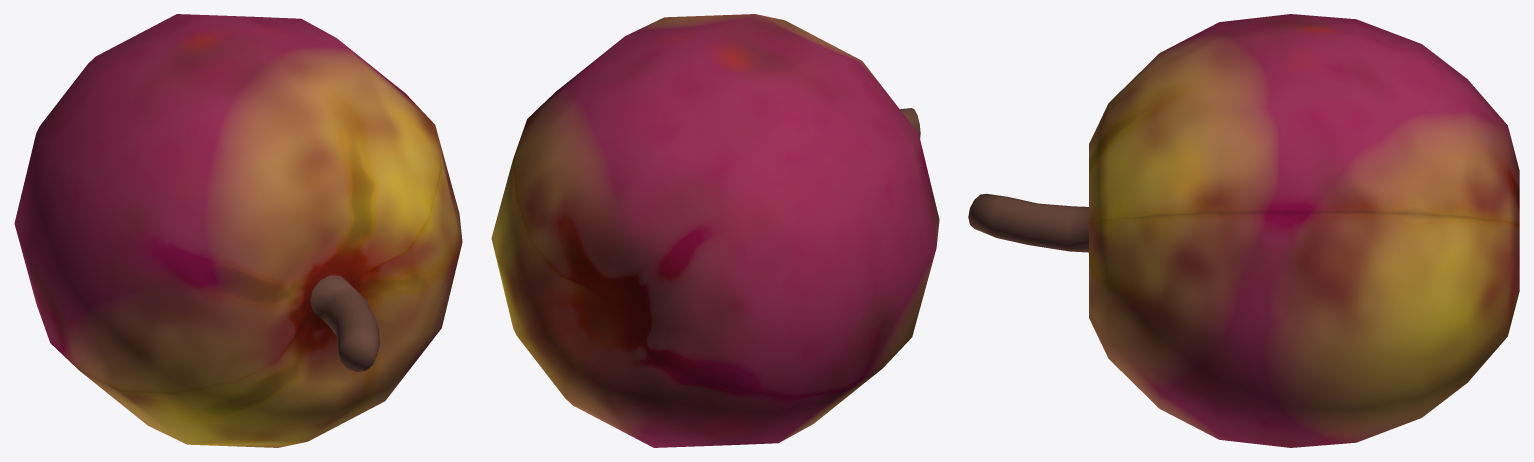
The model's file is NectarinesA.glb.
3 renders of one model, left to right at view 1: azimuth 30°, elevation 25°; view 2: azimuth 150°, elevation 25°; view 3: azimuth 270°, elevation 25°, orthographic.
Parts seen in each view (by area): view 1: NectarinesA_Nectarines_0; view 2: NectarinesA_Nectarines_0; view 3: NectarinesA_Nectarines_0.
Part boxes in pixels (x1,y1,x2,y2): NectarinesA_Nectarines_0: (14, 14, 462, 447); NectarinesA_Nectarines_0: (491, 14, 939, 447); NectarinesA_Nectarines_0: (968, 14, 1519, 447).
Bounding box in the file's own units: 0.884 × 0.884 × 1.12.
Materials: 1 (1 with a texture image).
